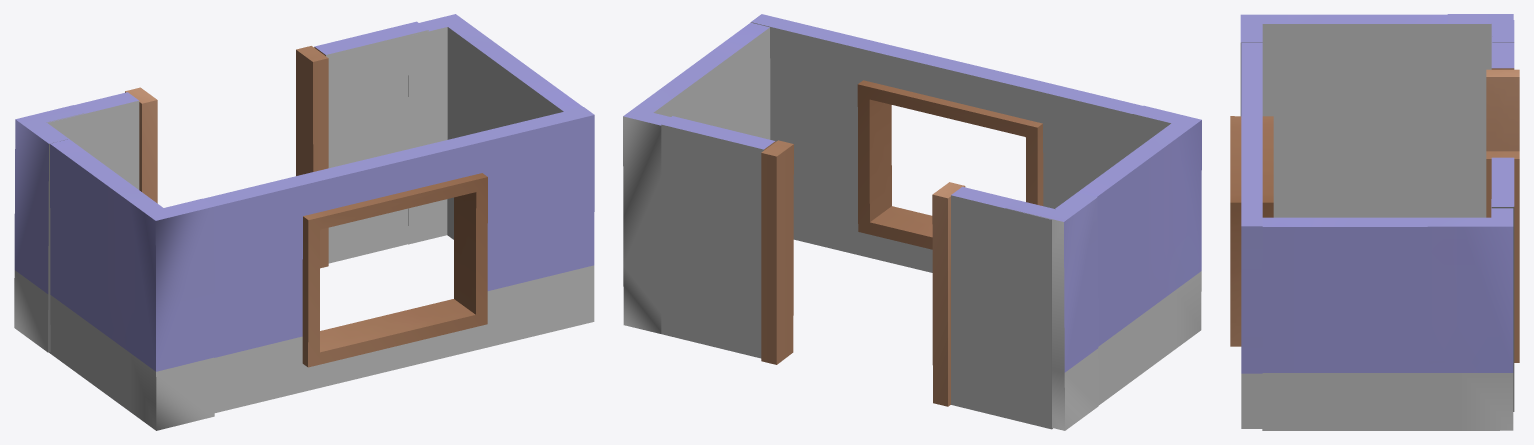
Rendered from BAÑO.fbx.
The picture shows the model from 3 angles, left to right: view 1: azimuth 30°, elevation 25°; view 2: azimuth 150°, elevation 25°; view 3: azimuth 270°, elevation 25°; orthographic projection. The views are drawn at different scales.
Visible parts, largest first — view 1: paret_ventana9, paret_estrecha9, paret_puerta54, paret_estrecha10, paret_esquina_92; view 2: paret_puerta54, paret_ventana9, paret_estrecha9, paret_estrecha10, paret_esquina_92; view 3: paret_estrecha10, paret_estrecha9, paret_ventana9, paret_puerta54, paret_esquina_92.
Boxes of the visible parts, x1,y1,x2,y2 form: paret_ventana9: (203,107,594,412); paret_estrecha9: (46,122,214,430); paret_puerta54: (47,21,428,268); paret_estrecha10: (408,14,582,244); paret_esquina_92: (14,105,84,352); paret_puerta54: (661,116,1052,429); paret_ventana9: (750,14,1142,272); paret_estrecha9: (1055,105,1201,405); paret_estrecha10: (623,22,770,333); paret_esquina_92: (1005,192,1098,430); paret_estrecha10: (1262,199,1513,430); paret_estrecha9: (1240,14,1491,217); paret_ventana9: (1230,43,1273,428); paret_puerta54: (1486,20,1519,411); paret_esquina_92: (1447,14,1514,42).
Bounding box in the file's own units: 749 × 341 × 433.
